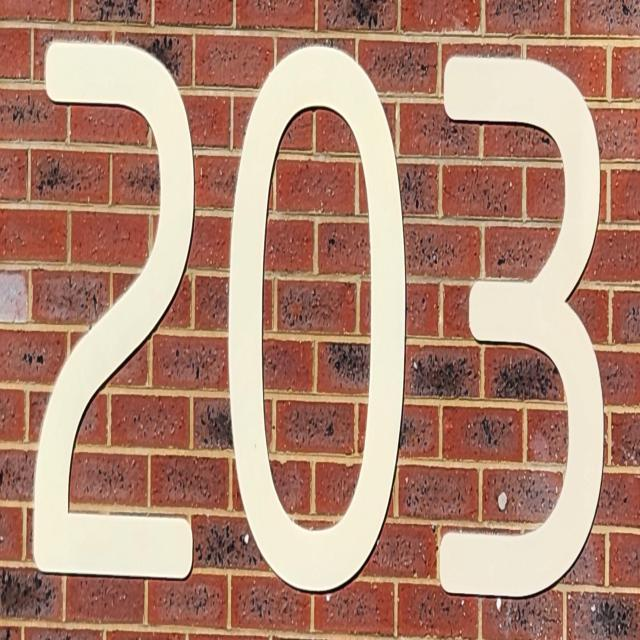character: (227, 39, 409, 598), (438, 53, 606, 605), (31, 33, 196, 582)
